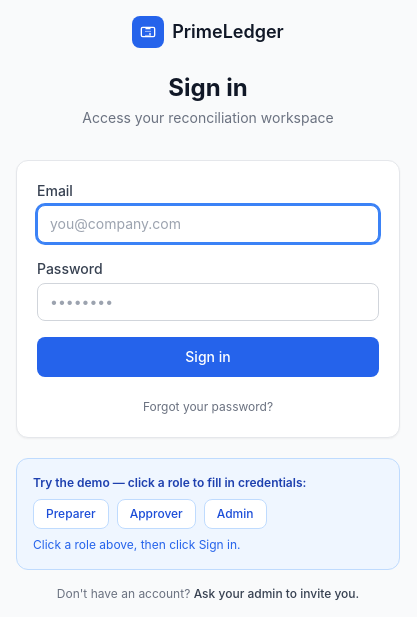
Test: LoginPage › fills credentials when a demo role button is clicked
The width and height of the screenshot is (417, 617).
Expected: the heading "Sign in" is shown, [168,73,248,102]
Click the button "preparer" at (71, 514), box [33,499,109,529]
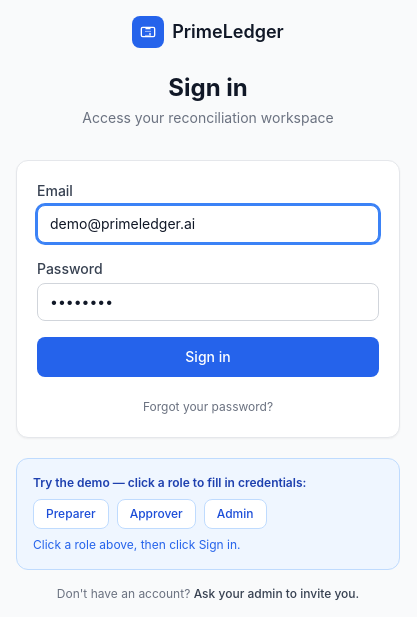
Now the field labelled "Email" holds "demo@primeledger.ai", box [37,205,379,243]
